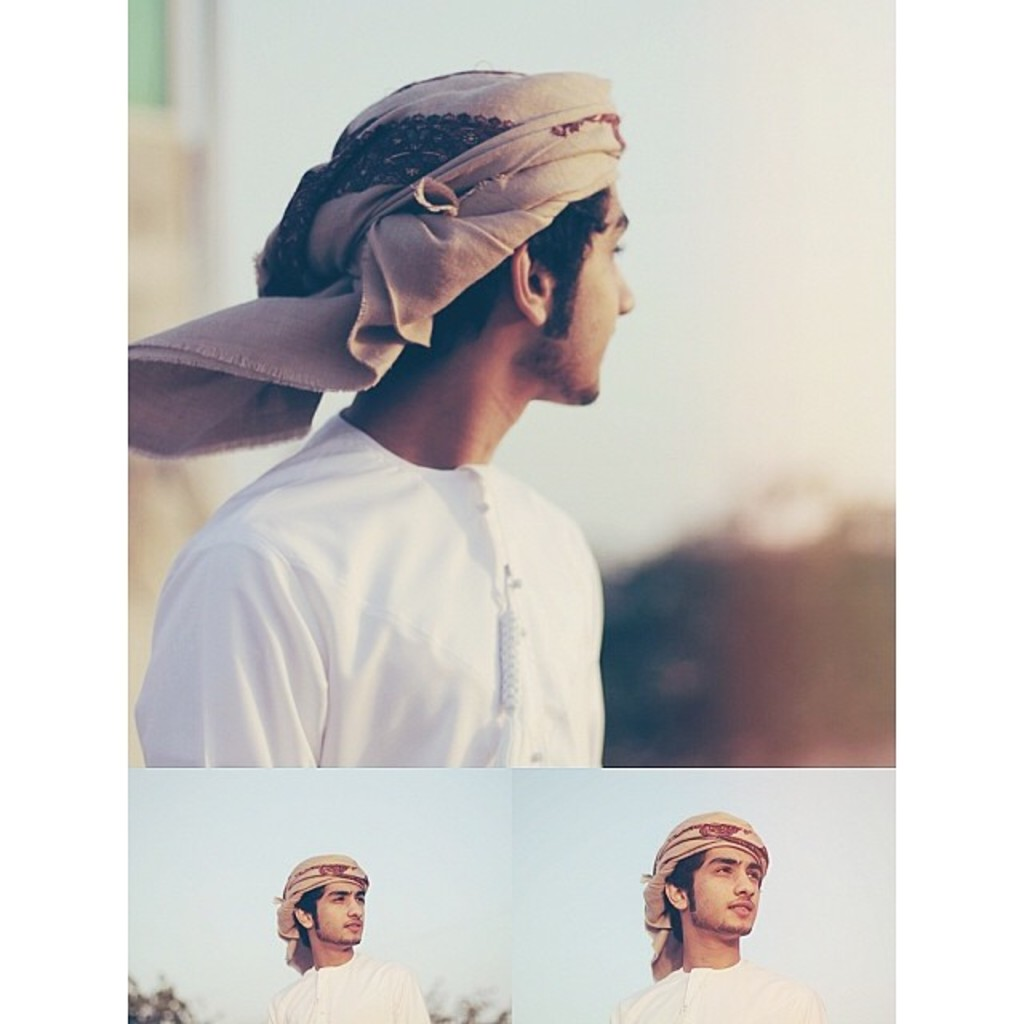face: (527, 163, 637, 402)
